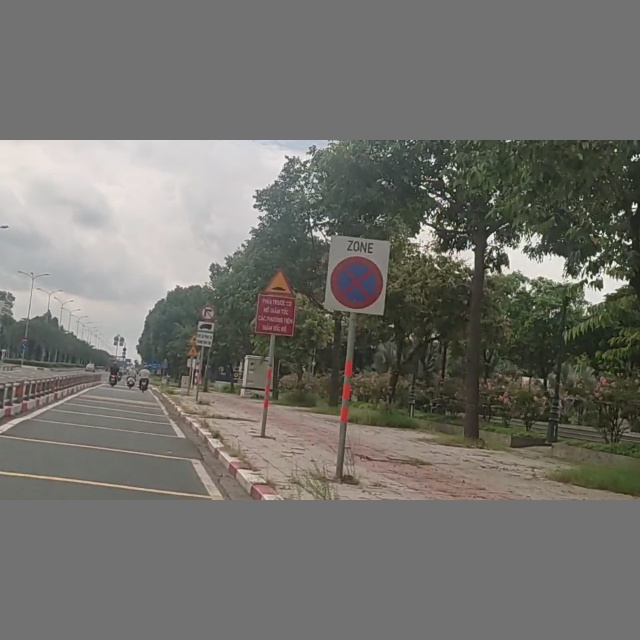P.123b: (201, 305, 216, 321)
P.130: (325, 235, 389, 313)
S.505a*Xe tai: (195, 321, 214, 347)
W.221b: (263, 270, 295, 295)
